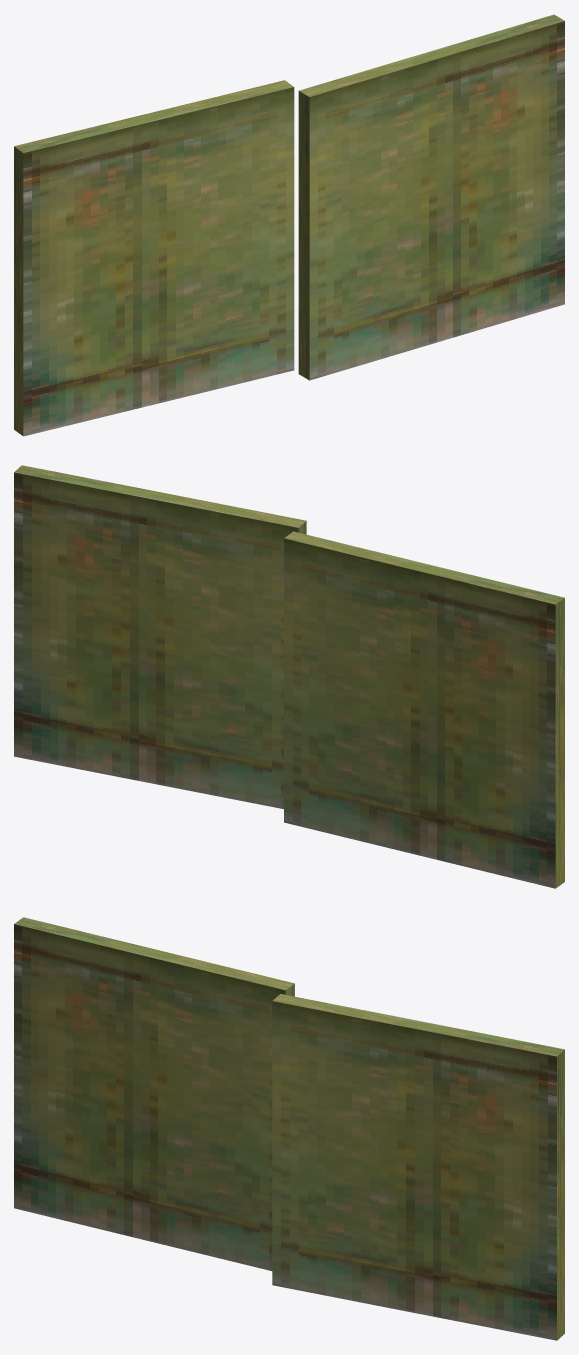
The model's file is shutters_small_double_closed_01.glb.
The picture shows the model from 3 angles, top to bottom: view 1: azimuth 30°, elevation 25°; view 2: azimuth 150°, elevation 25°; view 3: azimuth 330°, elevation 25°; orthographic projection.
Visible parts, largest first — view 1: shutters_small_double_closed_012; view 2: shutters_small_double_closed_012; view 3: shutters_small_double_closed_012.
Part boxes in pixels (x1,y1,x2,y2): shutters_small_double_closed_012: (14, 14, 564, 436); shutters_small_double_closed_012: (14, 465, 564, 888); shutters_small_double_closed_012: (14, 917, 564, 1340).
Bounding box in the file's own units: 2 × 1 × 0.1512.
1 material, 1 textured.
